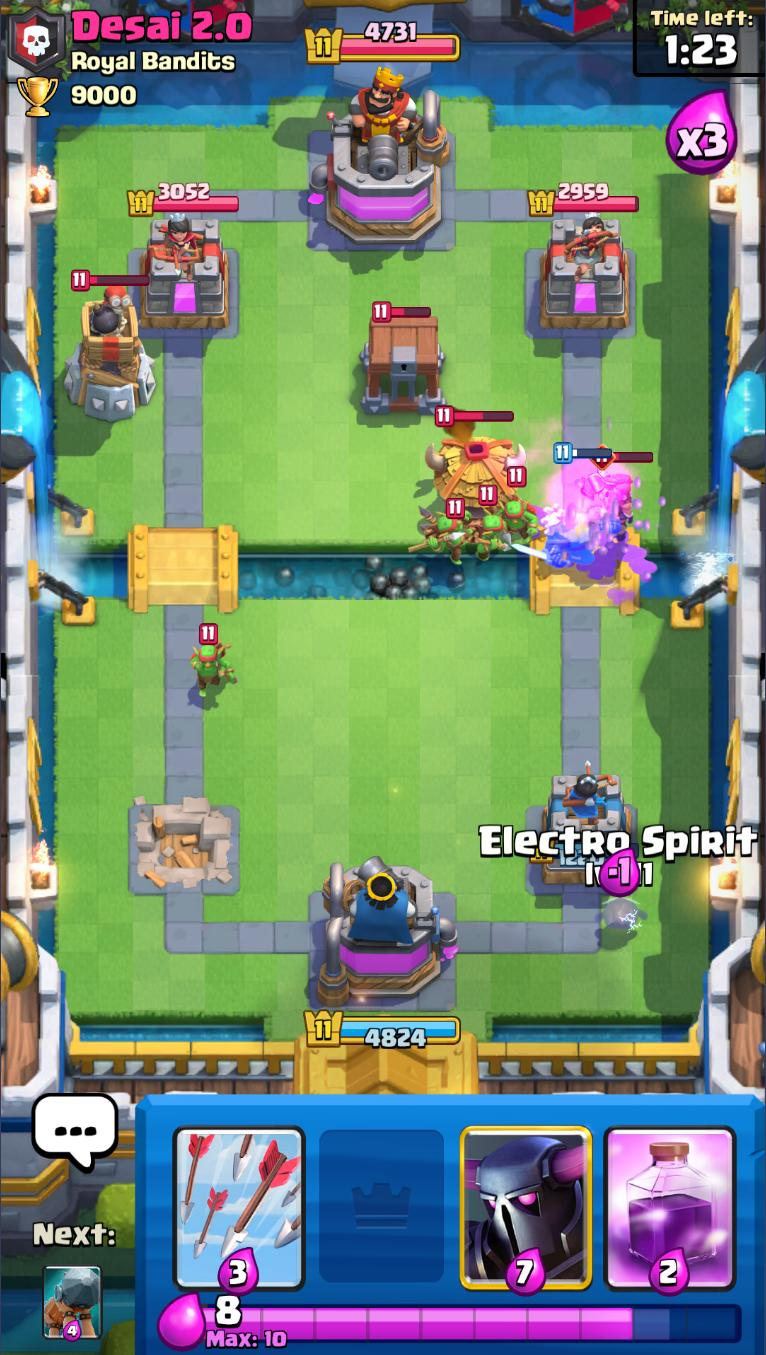ArrowDeck: (165, 1096, 307, 1295)
BombTower: (61, 268, 156, 422)
ElectroSpiritDeck: (41, 1263, 101, 1344)
Elixir: (202, 1295, 745, 1352)
Empty: (311, 1097, 454, 1295)
EnemyTower: (137, 214, 231, 333), (538, 214, 632, 331)
EvoValkyrie: (580, 445, 654, 542)
GoblinCage: (356, 302, 448, 416)
GoblinHut: (419, 404, 524, 544)
KingTower: (309, 80, 454, 248)
KingTowerHP: (304, 27, 462, 65)
MyKingHP: (302, 1006, 463, 1051)
MyKingTower: (318, 855, 460, 1009)
MyPrincessTower: (526, 768, 642, 889)
MyPrincessTowerBrocken: (126, 794, 242, 899)
MyPrincessTowerHP: (527, 835, 642, 867)
MyRoyaleGhost: (540, 442, 591, 569)
PekkaDeck: (454, 1097, 600, 1294)
PrincessTower: (549, 214, 604, 275), (152, 214, 202, 273)
RageDeck: (600, 1097, 744, 1294)
SpearGoblin: (409, 499, 474, 568), (186, 620, 240, 700), (497, 465, 541, 543), (468, 485, 512, 559)
TowerPrincessHP: (127, 180, 241, 217), (527, 181, 640, 216)
